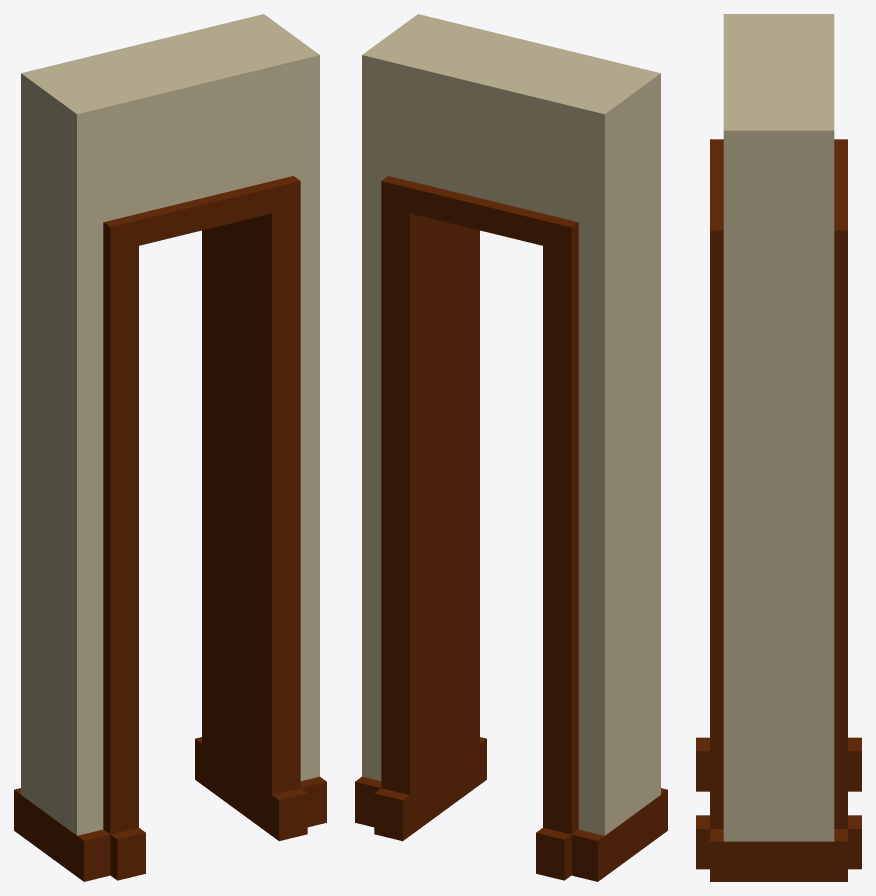
Rendered from Mesh_Wall_Door.fbx.
3 renders of one model, left to right at view 1: azimuth 30°, elevation 25°; view 2: azimuth 150°, elevation 25°; view 3: azimuth 270°, elevation 25°, orthographic.
Parts seen in each view (by area): view 1: Wall_Door_Hole; view 2: Wall_Door_Hole; view 3: Wall_Door_Hole.
Boxes of the visible parts, x1,y1,x2,y2 form: Wall_Door_Hole: [14, 14, 326, 881]; Wall_Door_Hole: [355, 14, 667, 881]; Wall_Door_Hole: [696, 14, 861, 881].
Size of the model in its own units: 20 by 60 by 12.
